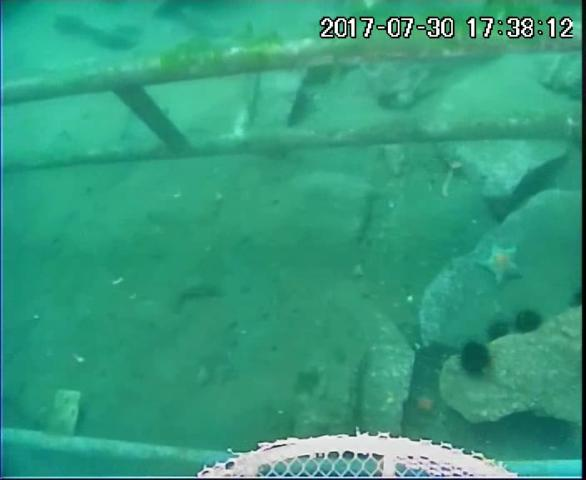echinus: (534, 416, 575, 453), (459, 338, 493, 381), (510, 309, 546, 335), (505, 409, 539, 435), (485, 319, 513, 345), (569, 287, 586, 313)
starfish: (478, 240, 527, 287), (406, 384, 446, 426)
